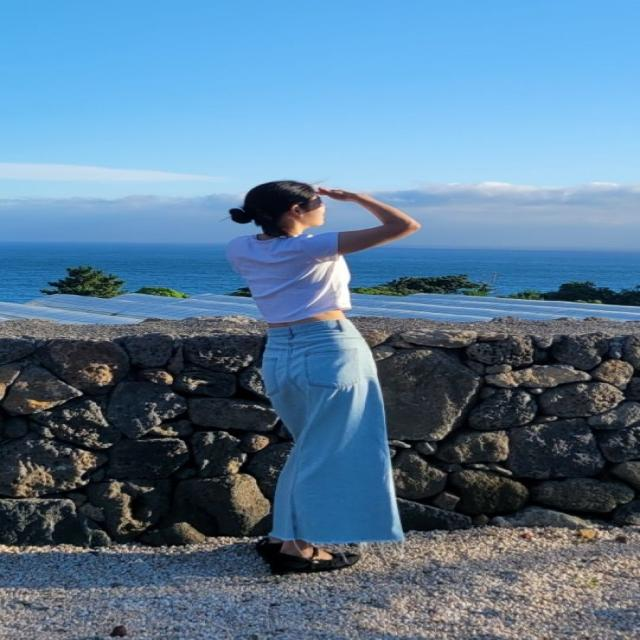shortsleeve: (225, 212, 374, 326)
skirt: (267, 312, 411, 541)
